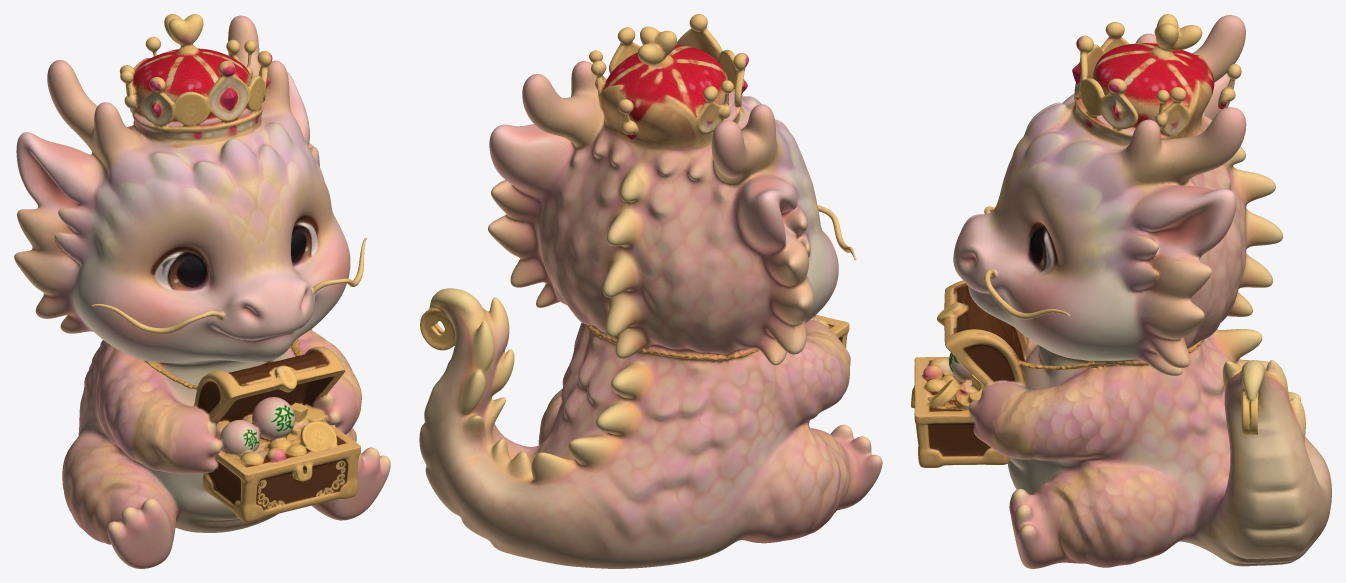
File: dragon.glb
3 views of the same model, side by side, from view 1: azimuth 30°, elevation 25°; view 2: azimuth 150°, elevation 25°; view 3: azimuth 270°, elevation 25° (orthographic). The views are drawn at different scales.
Size of the model in its own units: 1.42 by 1.9 by 1.46.
Materials: 1 (1 with a texture image).
